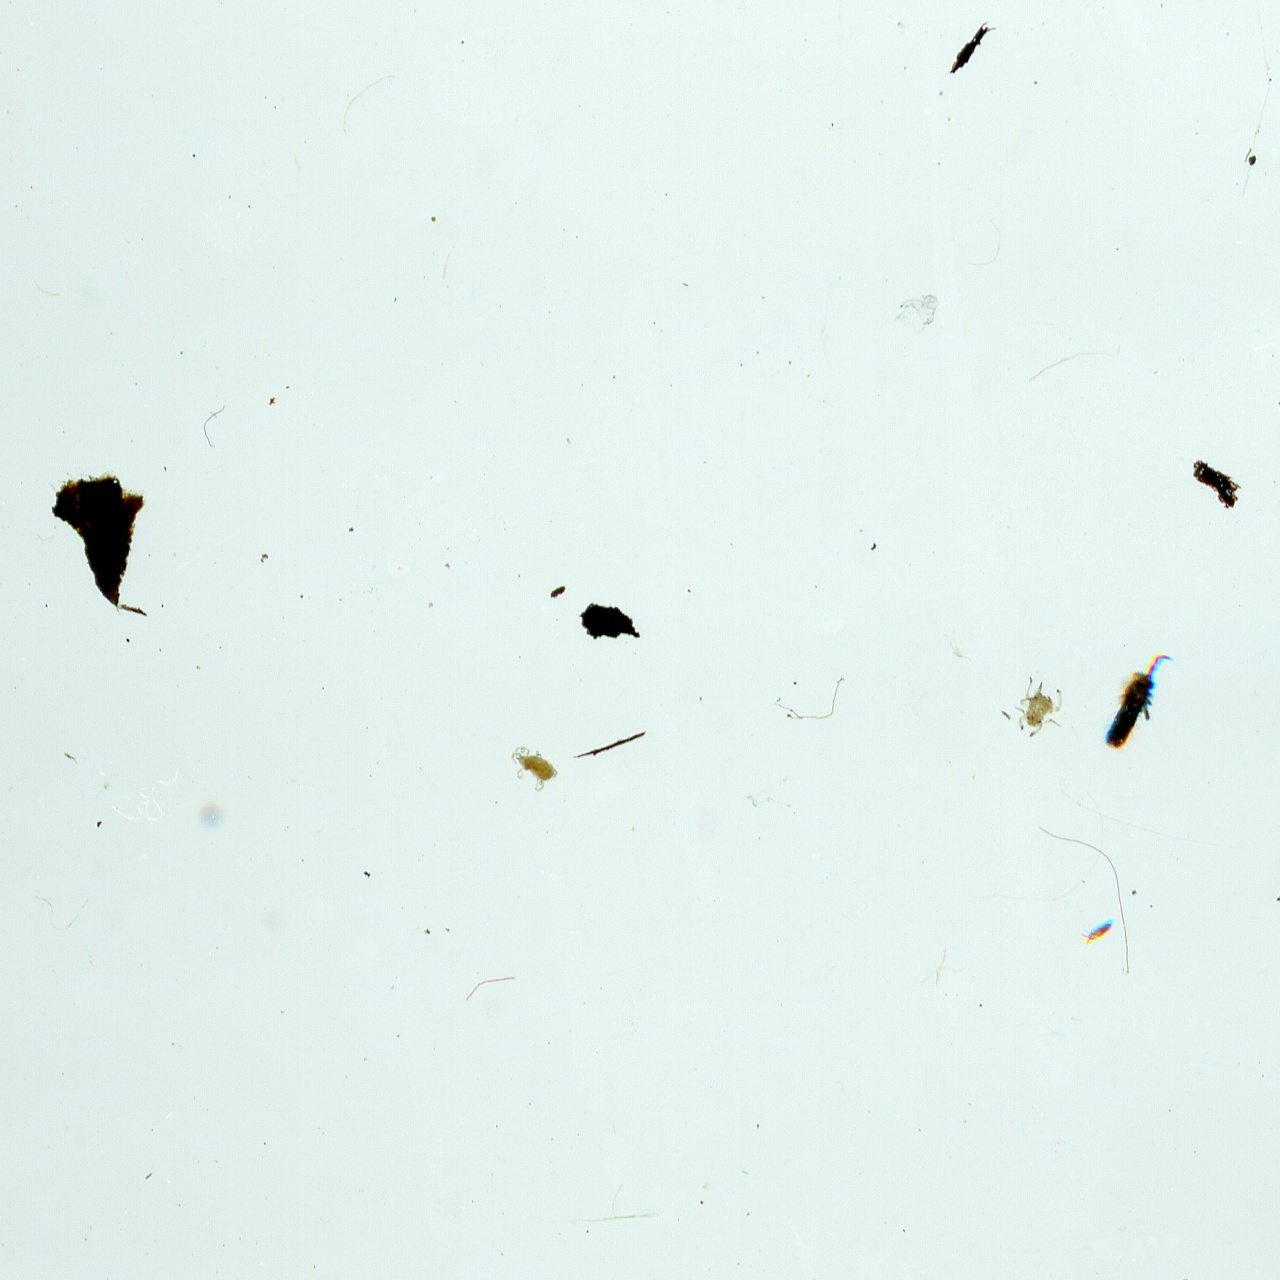arthropod: (1092, 636, 1182, 765), (1013, 674, 1067, 740), (508, 741, 564, 799), (1081, 917, 1116, 947)
